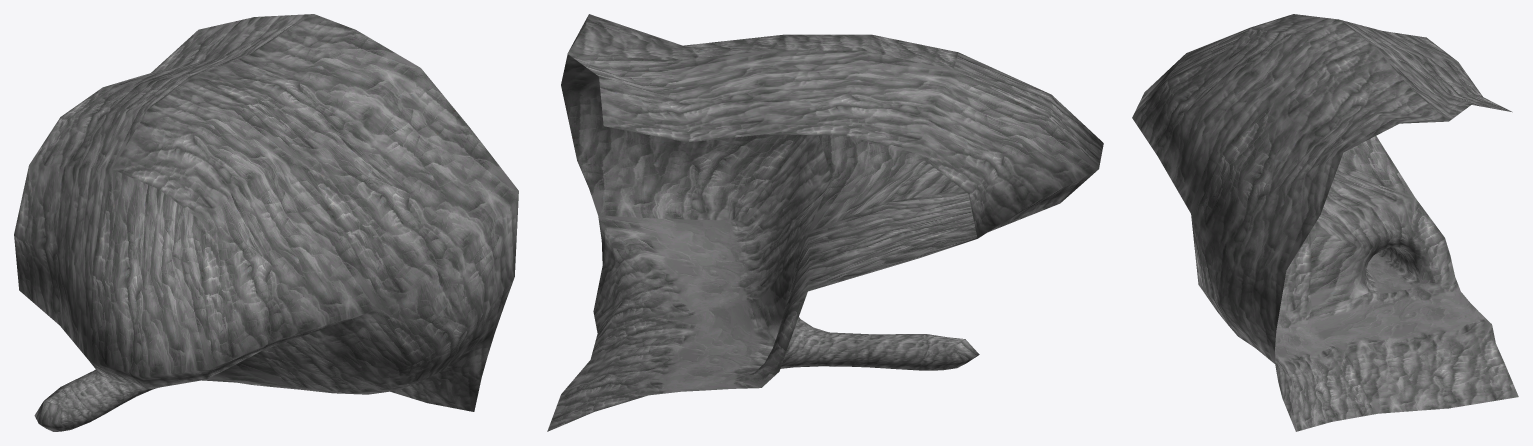
The model's file is SWORDLIGHT20_PS-AREA05_01.fbx.
3 views of the same model, side by side, from view 1: azimuth 30°, elevation 25°; view 2: azimuth 150°, elevation 25°; view 3: azimuth 270°, elevation 25° (orthographic). The views are drawn at different scales.
Parts seen in each view (by area): view 1: SWORDLIGHT20_PS-AREA05_01; view 2: SWORDLIGHT20_PS-AREA05_01; view 3: SWORDLIGHT20_PS-AREA05_01.
Boxes of the visible parts, <box> form: SWORDLIGHT20_PS-AREA05_01: <box>14,14,518,431</box>; SWORDLIGHT20_PS-AREA05_01: <box>547,14,1103,431</box>; SWORDLIGHT20_PS-AREA05_01: <box>1132,14,1518,431</box>.
Size of the model in its own units: 221744 by 155483 by 185886.
Materials: 2 (2 with a texture image).
